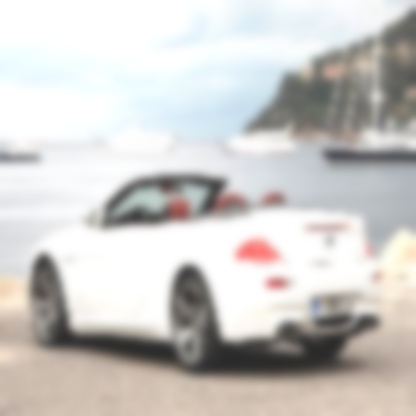Vehicle: (15, 160, 388, 385)
